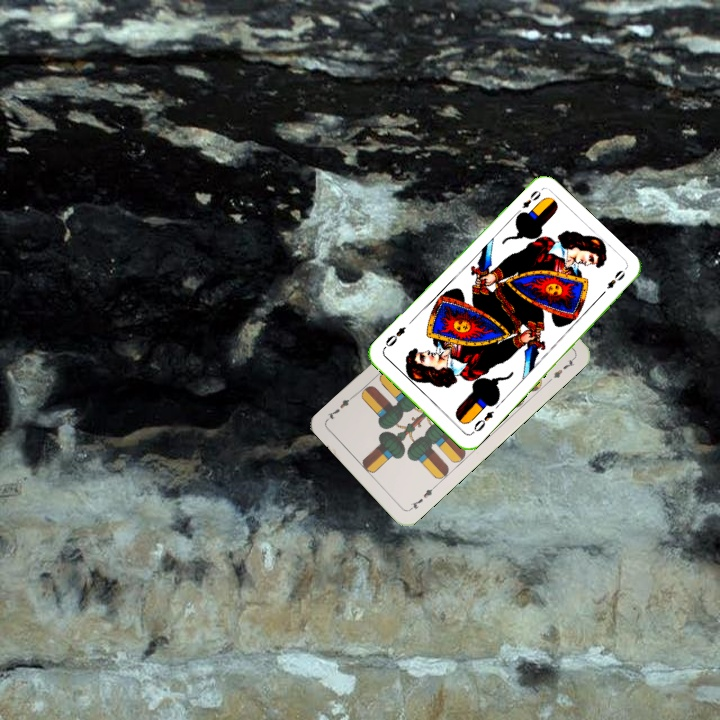E7: (405, 482, 438, 513)
EO: (511, 186, 544, 219), (467, 407, 496, 437)
